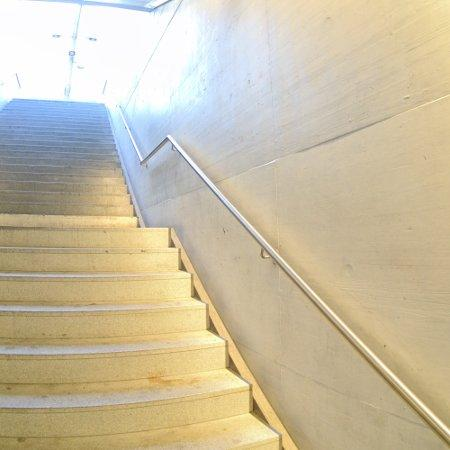stairs: (0, 100, 282, 450)
